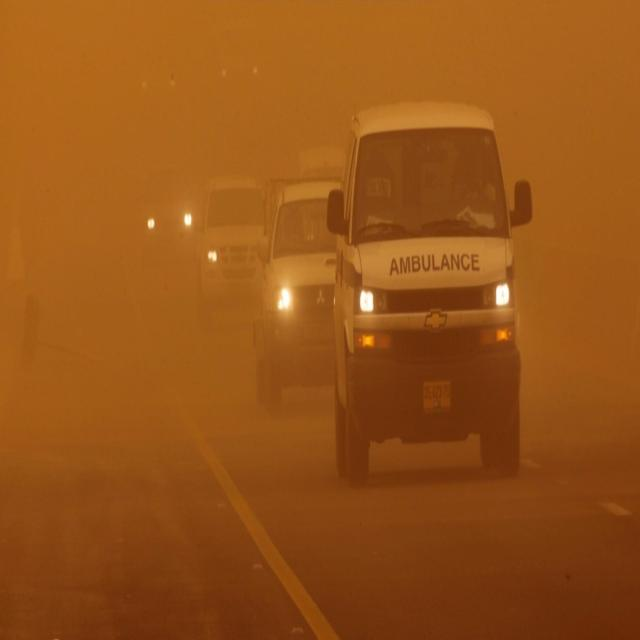car: (327, 104, 531, 481), (254, 176, 344, 415), (198, 178, 272, 317), (138, 160, 200, 281)
